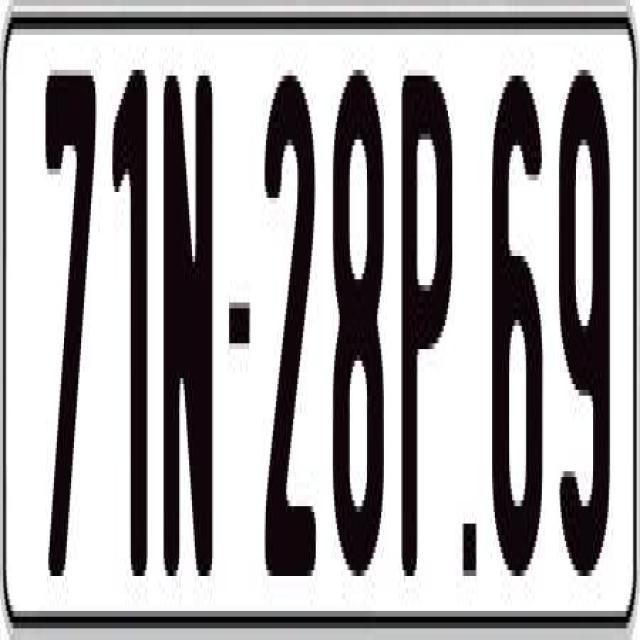1: (110, 63, 144, 600)
2: (263, 70, 319, 600)
6: (492, 76, 545, 594)
7: (44, 58, 98, 564)
8: (328, 64, 386, 594)
9: (559, 58, 613, 588)
N: (162, 58, 216, 564)
P: (398, 58, 455, 564)
